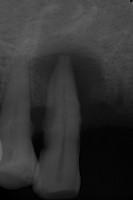Dental Caries: (23, 33, 133, 130)
